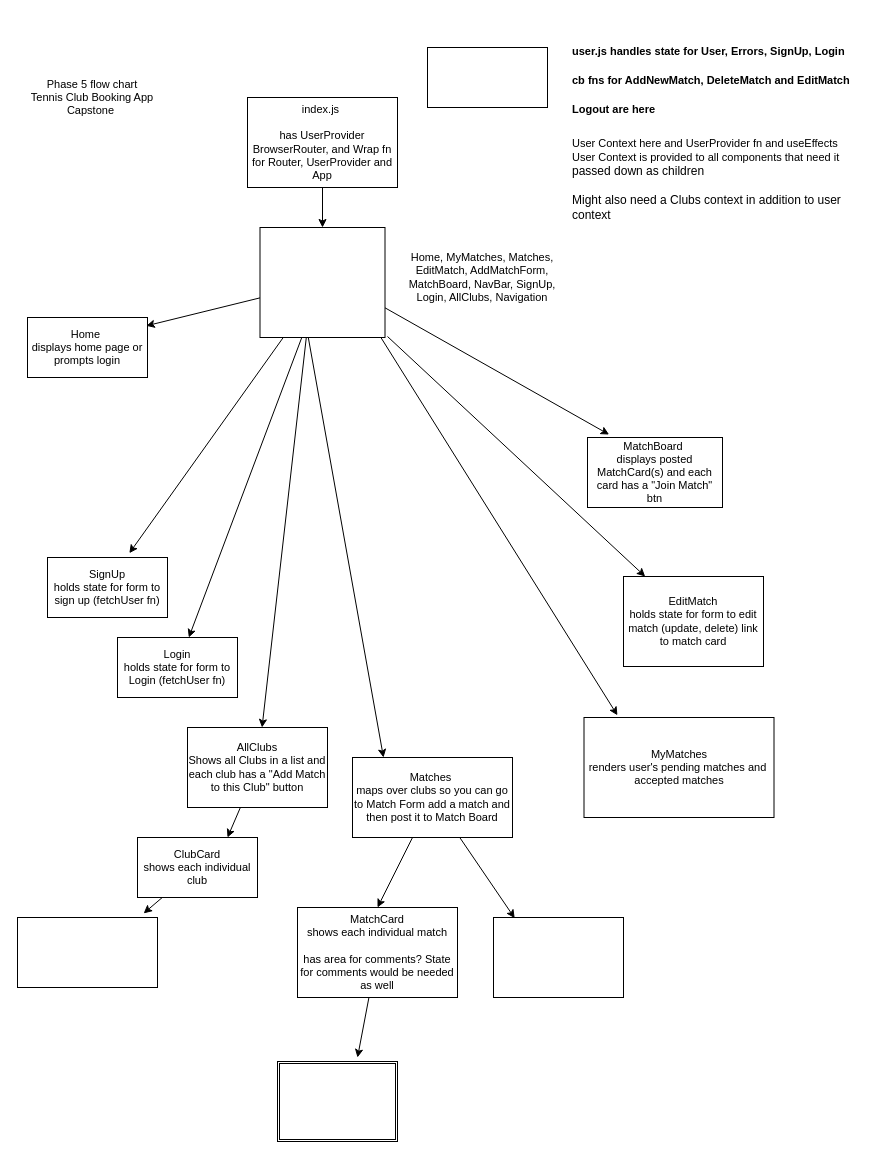
Some shapes in this 885 by 1159 pixel diagram are drawn without their labels. The centre of each missing label's shape, as x and y in pixels:
AddMatchForm holds state for new match: pixel 87 952
App has react router routes for components: pixel 322 282
CommentSection has state for comments for completed match: pixel 337 1101
SplitButton matches drop down "pending accepted rejected completed": pixel 558 957
user.js: pixel 487 77
